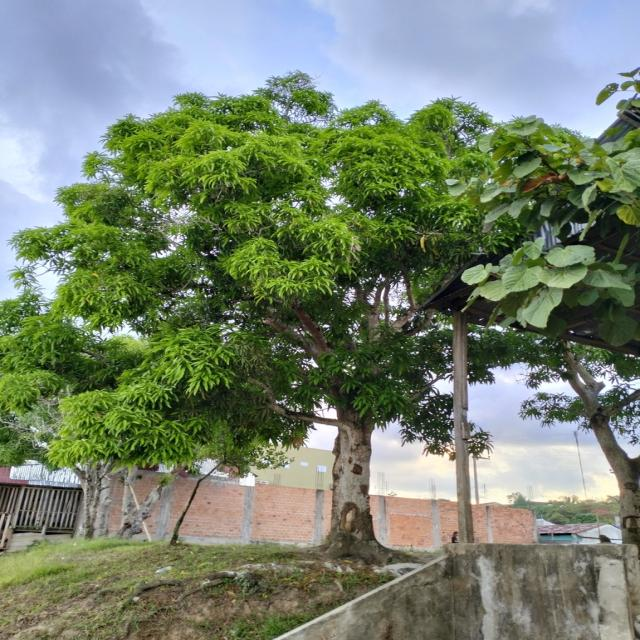Mango-Tree: (26, 111, 456, 559)
